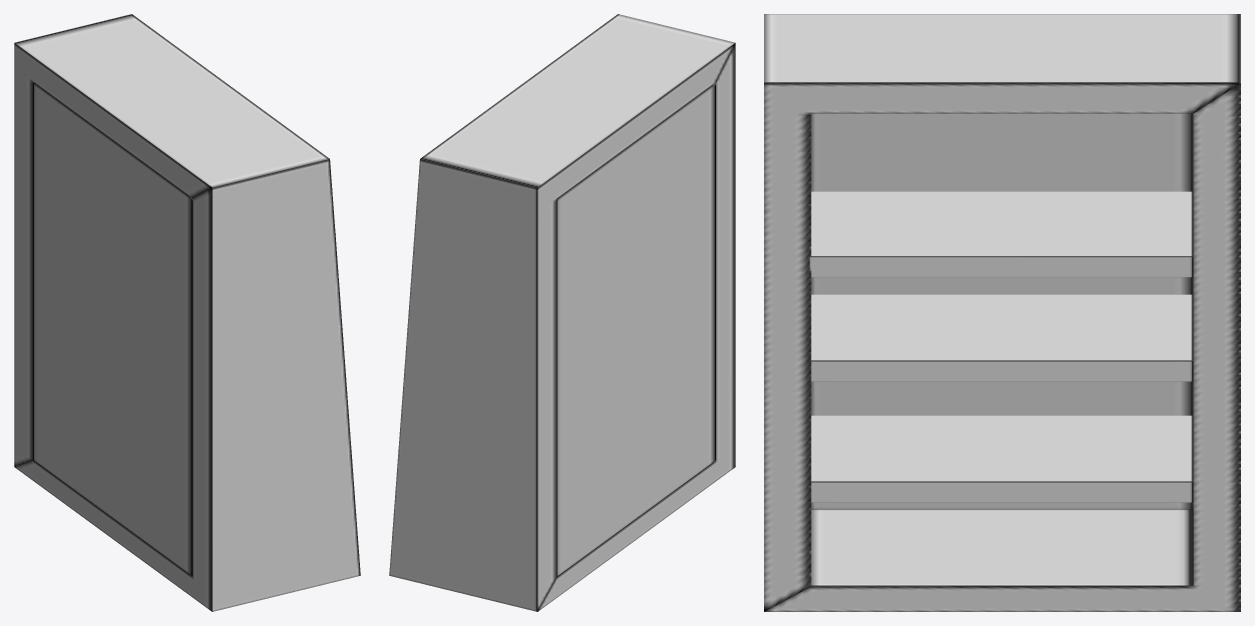
File: LibreroLowPoly.fbx
3 renders of one model, left to right at view 1: azimuth 30°, elevation 25°; view 2: azimuth 150°, elevation 25°; view 3: azimuth 270°, elevation 25°, orthographic. The views are drawn at different scales.
Parts seen in each view (by area): view 1: Plane; view 2: Plane; view 3: Plane, Plane.001, Plane.002, Plane.003.
Part boxes in pixels (bbox=[...]): Plane: bbox=[14, 14, 360, 611]; Plane: bbox=[389, 14, 735, 611]; Plane: bbox=[764, 14, 1240, 611]; Plane.001: bbox=[811, 415, 1193, 502]; Plane.002: bbox=[811, 294, 1193, 381]; Plane.003: bbox=[809, 191, 1193, 277].
Bounding box in the file's own units: 252 × 689 × 583.
